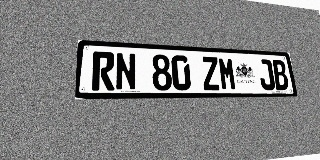0: (171, 55, 191, 90)
8: (152, 54, 172, 90)
B: (271, 60, 290, 90)
J: (257, 59, 276, 90)
M: (218, 57, 237, 90)
N: (115, 52, 137, 90)
R: (92, 51, 115, 91)
Z: (201, 56, 221, 90)
